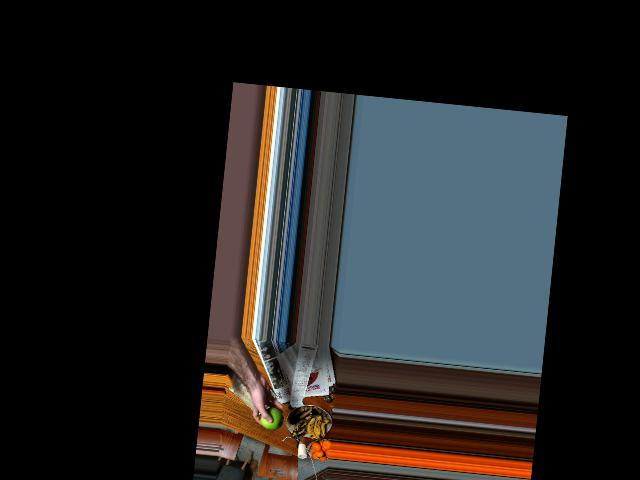apple: (262, 404, 284, 432)
